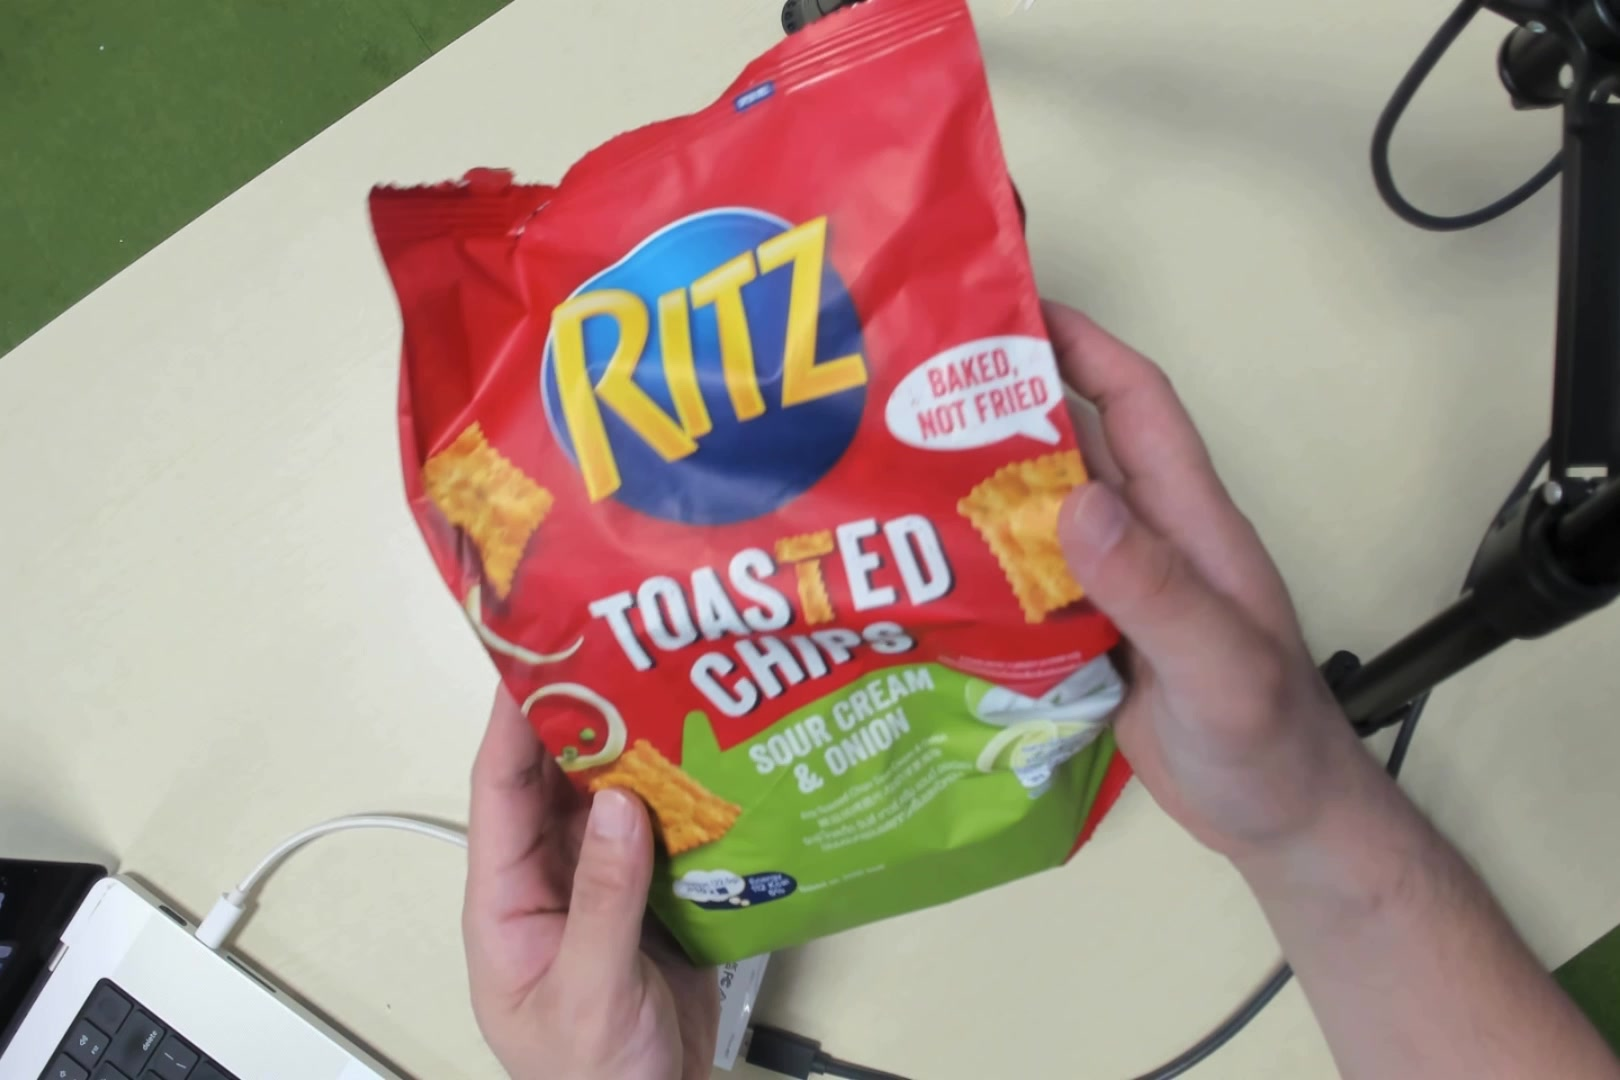BiscuitsCrackersCookies_200-299g_NonHalal_NonHealthy: (456, 143, 1086, 888)
